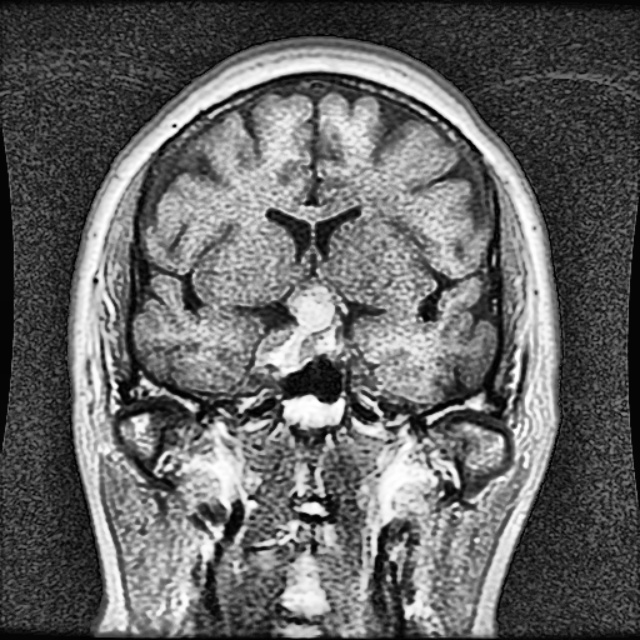Pituitary: (258, 284, 342, 378)
